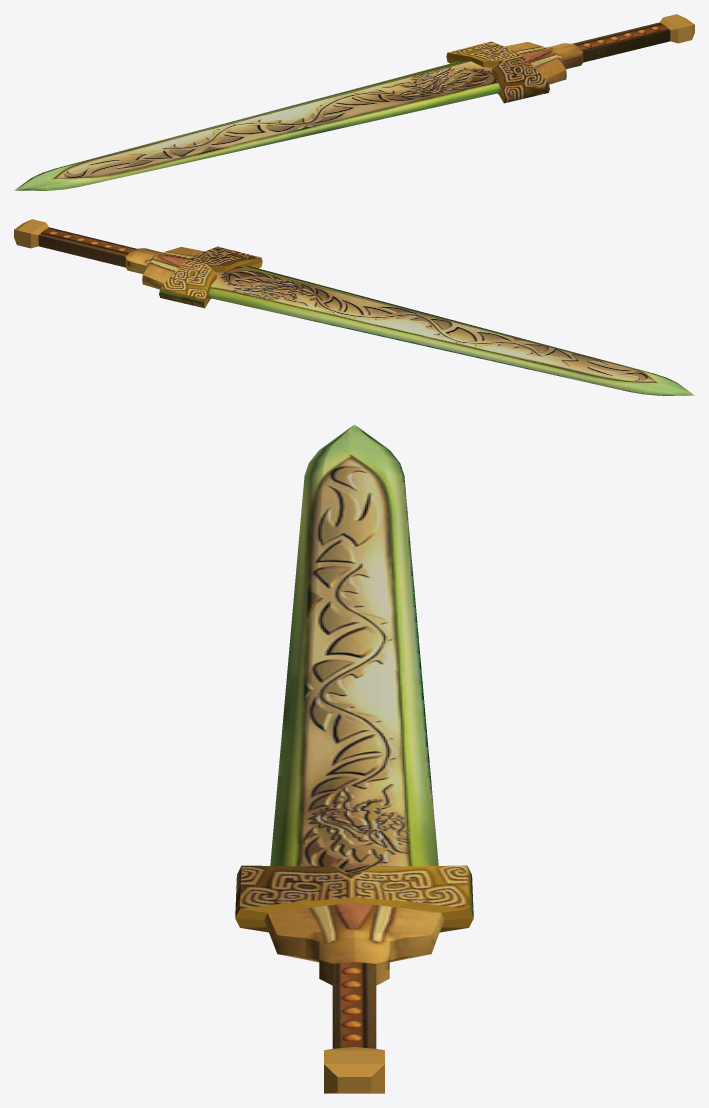
Rendered from sword china.glb.
3 renders of one model, top to bottom at view 1: azimuth 30°, elevation 25°; view 2: azimuth 150°, elevation 25°; view 3: azimuth 270°, elevation 25°, orthographic. The views are drawn at different scales.
Visible parts, largest first — view 1: Object_2; view 2: Object_2; view 3: Object_2.
Boxes of the visible parts, bbox=[...] form: Object_2: bbox=[14, 14, 694, 190]; Object_2: bbox=[14, 219, 694, 395]; Object_2: bbox=[235, 424, 473, 1093].
Size of the model in its own units: 1152 by 37.59 by 176.
1 material, 1 textured.
